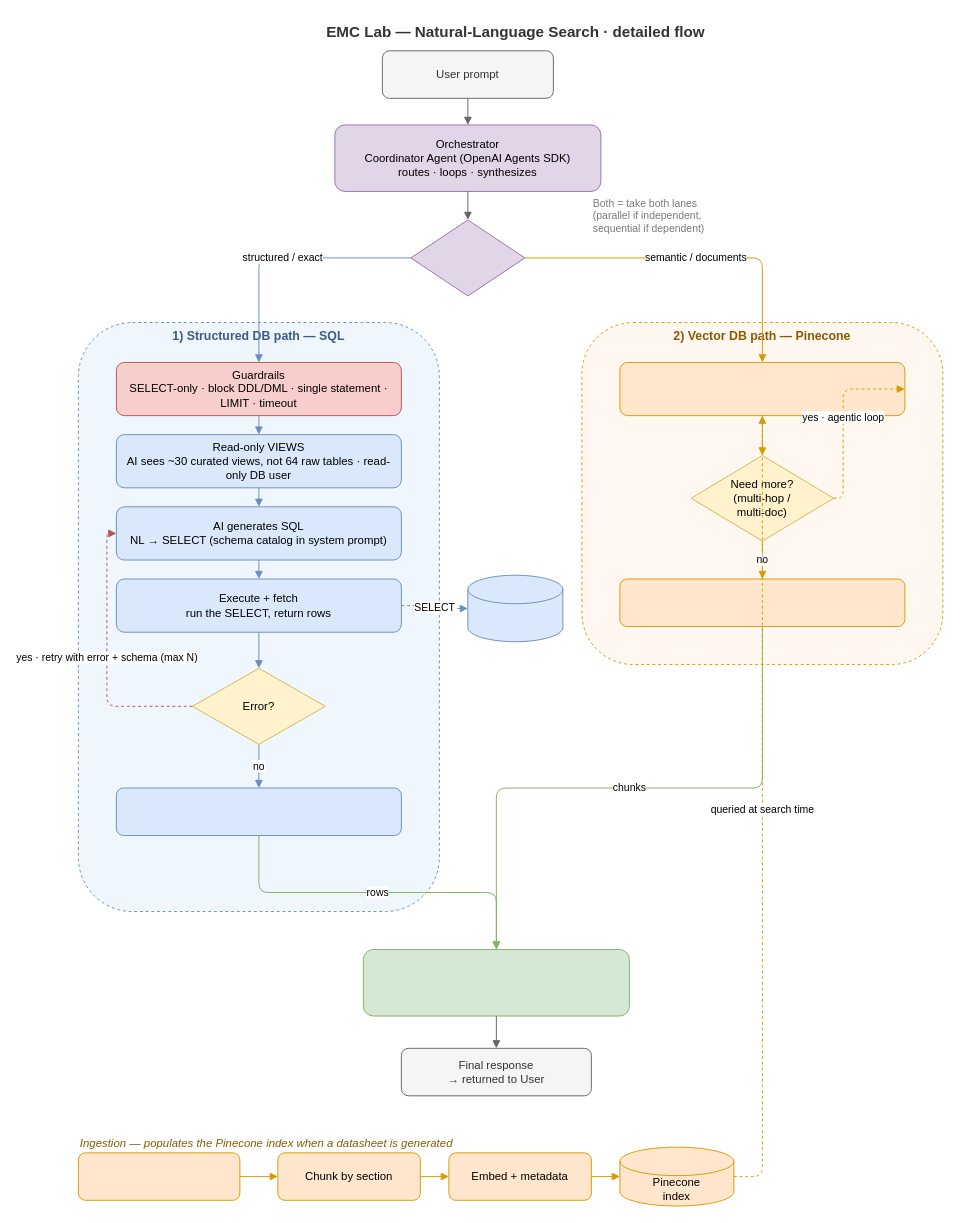
This 960x1223 diagram has some shape labels left out. Each missing label, with the box of its shape:
Datasheet generated (per Test Request): (77, 1152, 240, 1200)
Feed data → LLM synthesize final answer + citations: (362, 949, 629, 1016)
MySQL (read-only): (467, 574, 563, 642)
Result rows: (115, 787, 401, 836)
Retrieved chunks: (619, 578, 905, 627)
Route?: (410, 219, 525, 296)
Semantic search — Pinecone dense embeddings + metadata filter (datasheet chunks): (619, 361, 905, 416)
